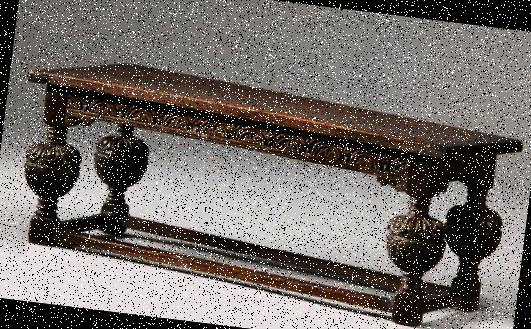Mesa: (4, 51, 525, 328)
